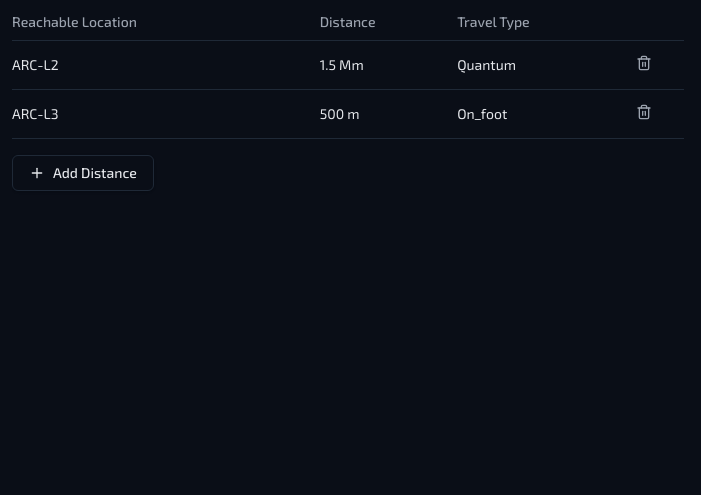
Test: DistancesTab › hides add form when Cancel is clicked
Check: the text "ARC-L2" is shown, box x1=12 y1=40 x2=320 y2=90
Click the button "Add Distance".
click(83, 173)  # box x1=12 y1=155 x2=154 y2=191
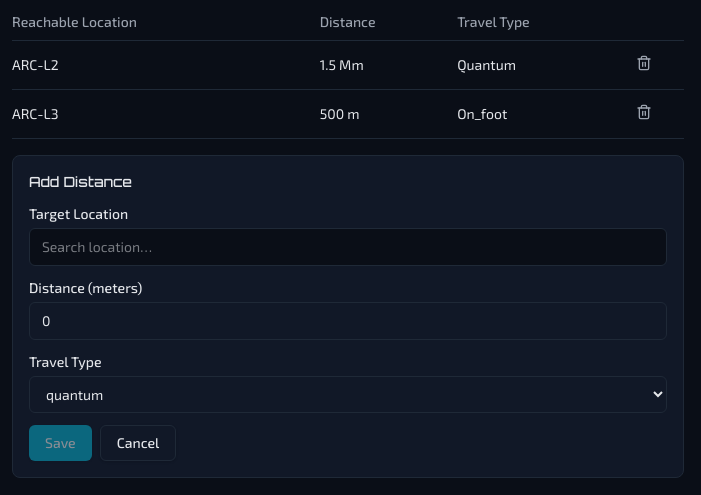
Check: the field labelled "Target Location" is shown, box x1=29 y1=228 x2=667 y2=266
Click the button "Cancel".
click(138, 443)  # box x1=100 y1=425 x2=176 y2=461
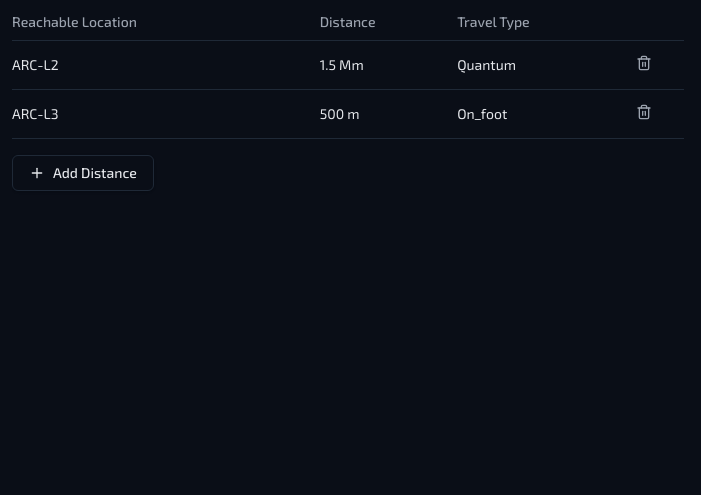
Check: the label labelled "Target Location" is gone
